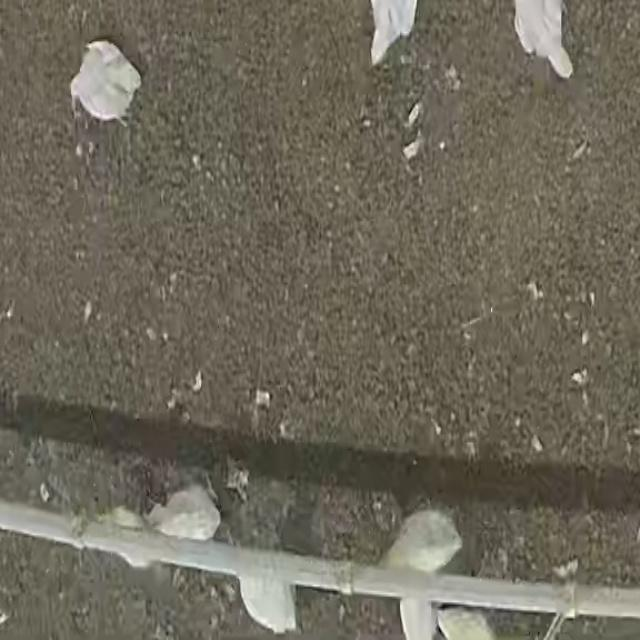chicken: (67, 39, 147, 123), (379, 507, 466, 574), (145, 483, 224, 540), (240, 573, 302, 634)
